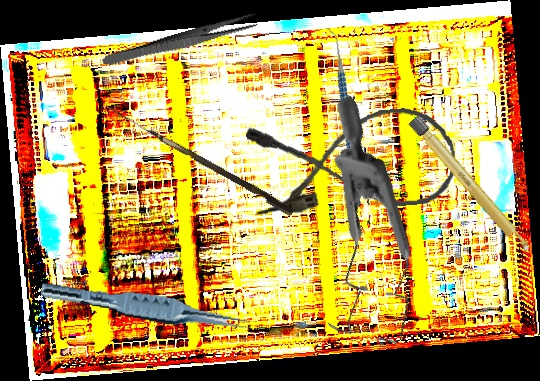Cannula: (245, 104, 459, 219)
Chopper: (289, 27, 395, 207)
Dressing Forceps: (100, 11, 261, 71)
Hook Surgical: (101, 105, 297, 217)
Scalpel Handle: (407, 114, 535, 258)
Speculum: (224, 94, 489, 370)
Tissue Forceps: (39, 281, 252, 335)
